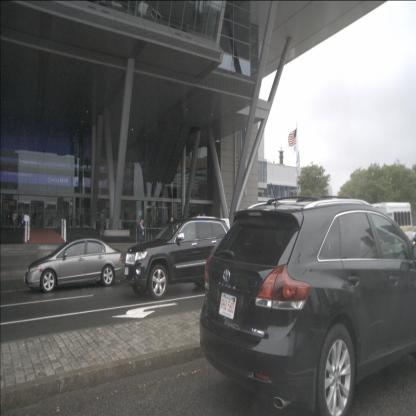human-pedestrian-adult: (138, 218, 146, 258), (20, 211, 26, 238), (100, 211, 105, 237), (6, 208, 11, 231), (13, 209, 18, 230)
vehicle-bus-rigid: (355, 202, 414, 262)
vehicle-car: (199, 196, 416, 416), (123, 218, 234, 301), (24, 236, 124, 295)
